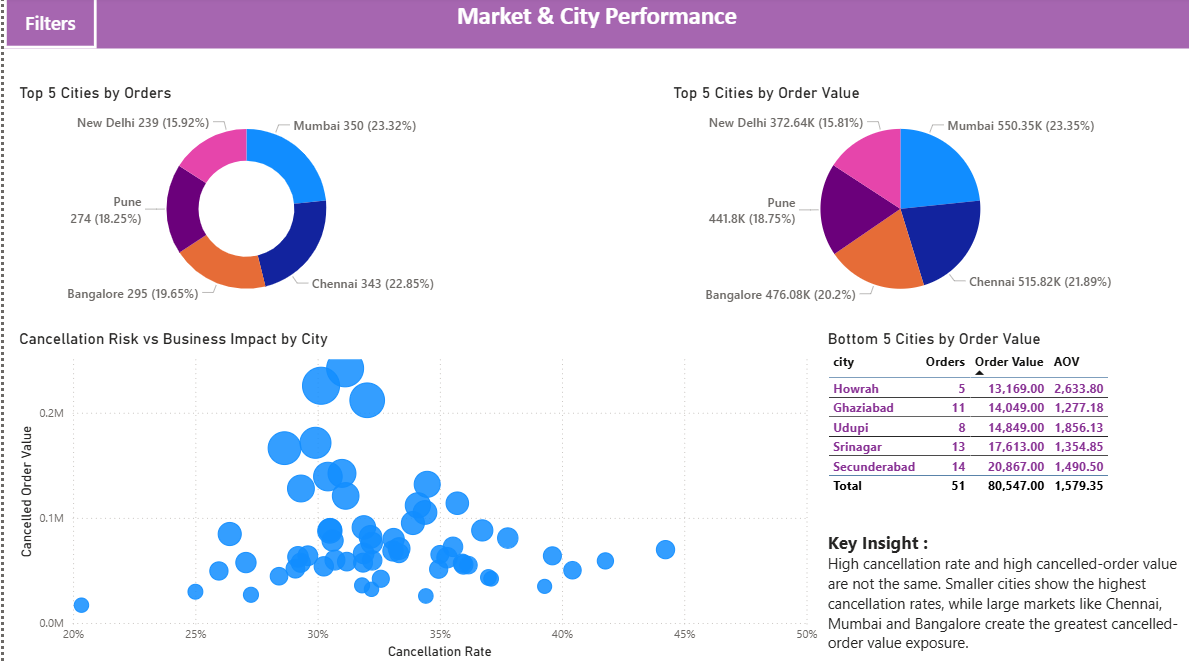

The page's visual inventory and layout, read from the dashboard file:
{"tool":"powerbi","page":{"name":"Market & City Performance","canvas":[1280,720],"ordinal":1},"visuals":[{"type":"donutChart","title":"Top 5 Cities by Orders","fields":{"Category":["zomato_analysis zomato_restaurants.city"],"Y":["MeasuresTable.Valid Business Orders"]},"box":[11.7,93.3,500,251.7],"z":0},{"type":"pieChart","title":"Top 5 Cities by Order Value","fields":{"Category":["zomato_analysis zomato_restaurants.city"],"Y":["MeasuresTable.Valid Business Order Value"]},"box":[716.7,93.3,500,251.7],"z":1000},{"type":"tableEx","title":"Bottom 5 Cities by Order Value","fields":{"Values":["zomato_analysis zomato_restaurants.city","MeasuresTable.Valid Business Orders","MeasuresTable.Valid Business Order Value","MeasuresTable.Valid Business AOV"]},"box":[883.3,360,345,196.7],"z":2000},{"type":"scatterChart","title":"Cancellation Risk vs Business Impact by City","fields":{"X":["MeasuresTable.Valid Cancellation Rate"],"Y":["MeasuresTable.Valid Cancelled Order Value"],"Category":["zomato_analysis zomato_restaurants.city"],"Size":["MeasuresTable.Valid Total Orders"]},"box":[11.7,360,871.7,360],"z":3000},{"type":"textbox","box":[883.3,571.7,396.7,148.3],"z":4000},{"type":"textbox","box":[0,0,1280,56.7],"z":5000},{"type":"actionButton","title":"Open FIlter","box":[0,0,100,56.7],"z":11000}]}

Visuals, with their boxes in screenshot pixels (x1, y1, x2, y2), scaled from the page's 1280x720 canvas onto the 1189x661 screenshot:
"Top 5 Cities by Orders" donutChart: [x1=11, y1=86, x2=475, y2=317]
"Top 5 Cities by Order Value" pieChart: [x1=666, y1=86, x2=1130, y2=317]
"Bottom 5 Cities by Order Value" tableEx: [x1=821, y1=330, x2=1141, y2=511]
"Cancellation Risk vs Business Impact by City" scatterChart: [x1=11, y1=330, x2=821, y2=660]
textbox: [x1=821, y1=525, x2=1188, y2=660]
textbox: [x1=0, y1=0, x2=1188, y2=52]
"Open FIlter" actionButton: [x1=0, y1=0, x2=93, y2=52]
